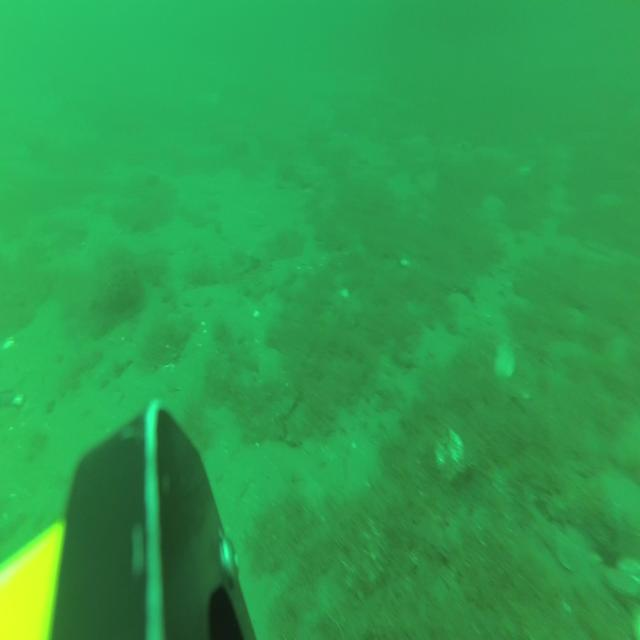scallop: (436, 424, 464, 480), (602, 564, 640, 599), (446, 288, 472, 330), (496, 342, 516, 382), (108, 322, 132, 344), (162, 361, 176, 382)
starfish: (480, 194, 506, 228)
